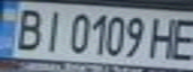0: (66, 9, 90, 55), (106, 11, 127, 57)
1: (87, 10, 109, 56)
9: (124, 12, 151, 59)
B: (6, 4, 48, 52)
E: (166, 15, 193, 62)
H: (145, 14, 181, 61)
I: (36, 7, 69, 53)
